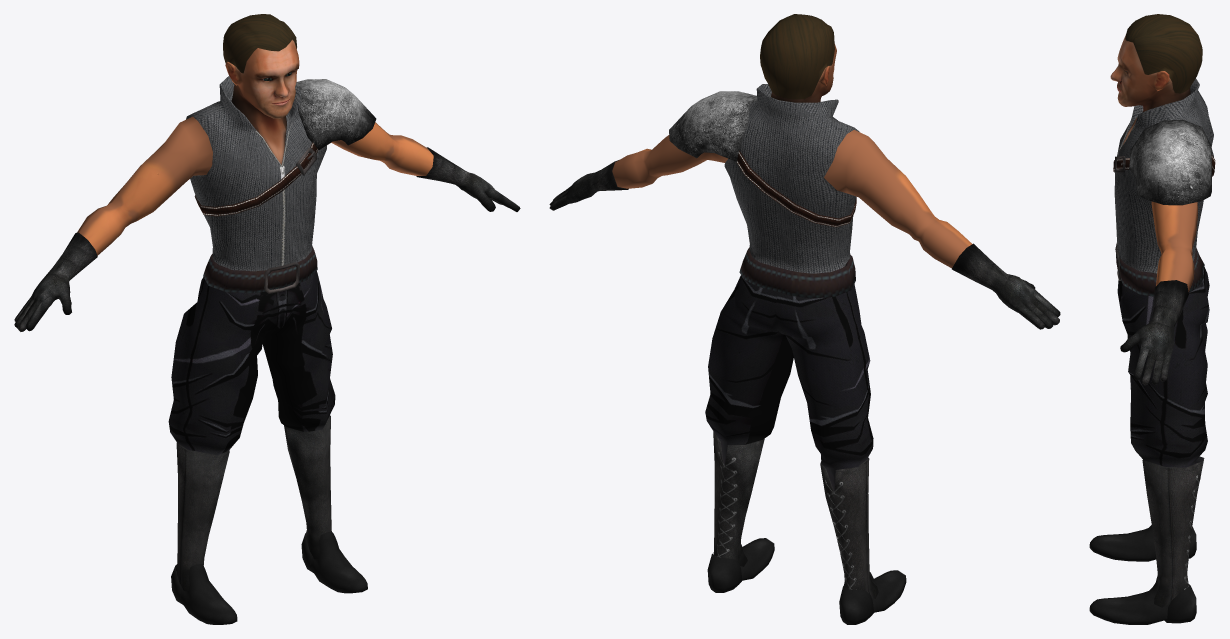
Rendered from Fighter_3_Mdl.fbx.
The picture shows the model from 3 angles, left to right: view 1: azimuth 30°, elevation 25°; view 2: azimuth 150°, elevation 25°; view 3: azimuth 270°, elevation 25°; orthographic projection.
Visible parts, largest first — view 1: Body_geo, Armour_geo, Rt_glove_geo, Belt_geo, Rt_shoe_geo, Lf_shoe_geo, Lf_glove_geo; view 2: Body_geo, Armour_geo, Rt_glove_geo, Belt_geo, Rt_shoe_geo, Lf_shoe_geo, Lf_glove_geo; view 3: Body_geo, Armour_geo, Lf_glove_geo, Lf_shoe_geo, Rt_shoe_geo, Belt_geo.
Part boxes in pixels (x1,y1,x2,y2): Body_geo: (77,14,433,590); Armour_geo: (194,79,376,216); Rt_glove_geo: (14,232,97,331); Belt_geo: (203,246,317,293); Rt_shoe_geo: (171,564,237,624); Lf_shoe_geo: (301,532,367,593); Lf_glove_geo: (416,147,520,211); Body_geo: (612,14,972,598); Armour_geo: (669,91,856,227); Rt_glove_geo: (952,243,1060,329); Belt_geo: (739,247,855,298); Rt_shoe_geo: (839,570,906,624); Lf_shoe_geo: (707,538,774,592); Lf_glove_geo: (549,160,628,210); Body_geo: (1110,14,1213,607); Armour_geo: (1113,119,1215,205); Lf_glove_geo: (1120,280,1188,385); Lf_shoe_geo: (1089,576,1196,624); Rt_shoe_geo: (1089,525,1196,561); Belt_geo: (1115,243,1204,296).
Size of the model in its own units: 159 by 174 by 34.85.
